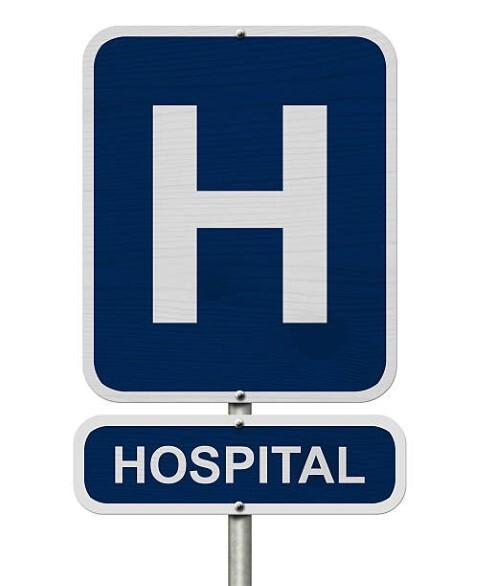Hospital: (61, 19, 409, 529)
